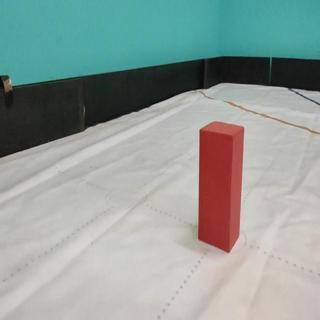redbox: (198, 119, 244, 253)
